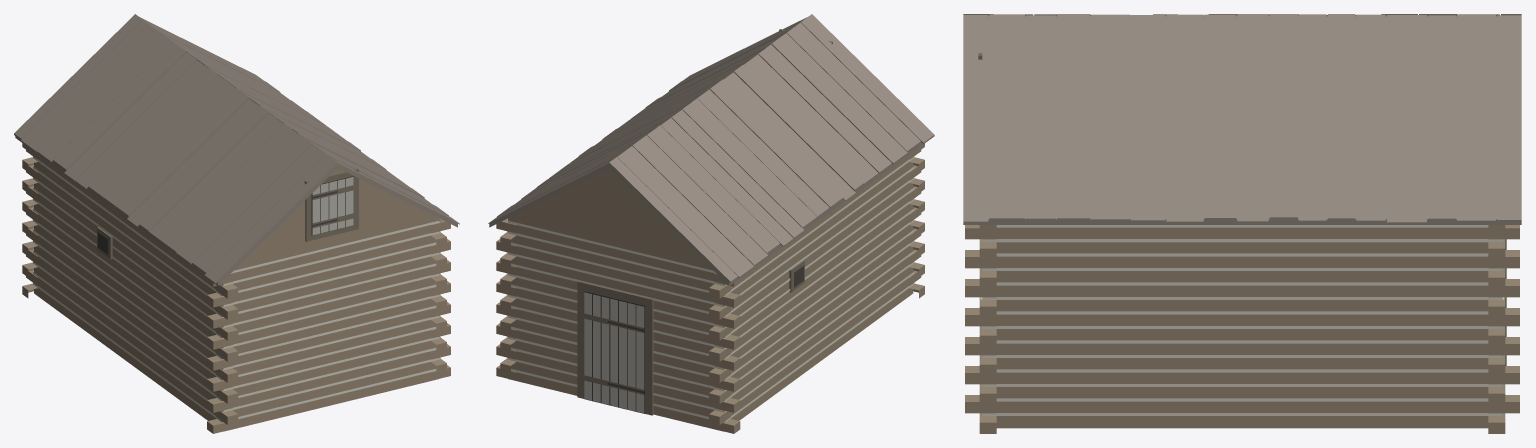
File: recon_1835_blk_south_water_dearborn_a1_09__inferred_1835.glb
3 views of the same model, side by side, from view 1: azimuth 30°, elevation 25°; view 2: azimuth 150°, elevation 25°; view 3: azimuth 270°, elevation 25° (orthographic). The views are drawn at different scales.
Visible parts, largest first — view 1: recon_1835_blk_south_water_dearborn_a1_09__inferred_1835; view 2: recon_1835_blk_south_water_dearborn_a1_09__inferred_1835; view 3: recon_1835_blk_south_water_dearborn_a1_09__inferred_1835.
Part boxes in pixels (x1,y1,x2,y2): recon_1835_blk_south_water_dearborn_a1_09__inferred_1835: (14, 14, 459, 433); recon_1835_blk_south_water_dearborn_a1_09__inferred_1835: (488, 14, 934, 433); recon_1835_blk_south_water_dearborn_a1_09__inferred_1835: (963, 14, 1521, 433).
Bounding box in the file's own units: 5.45 × 5.27 × 7.81.
